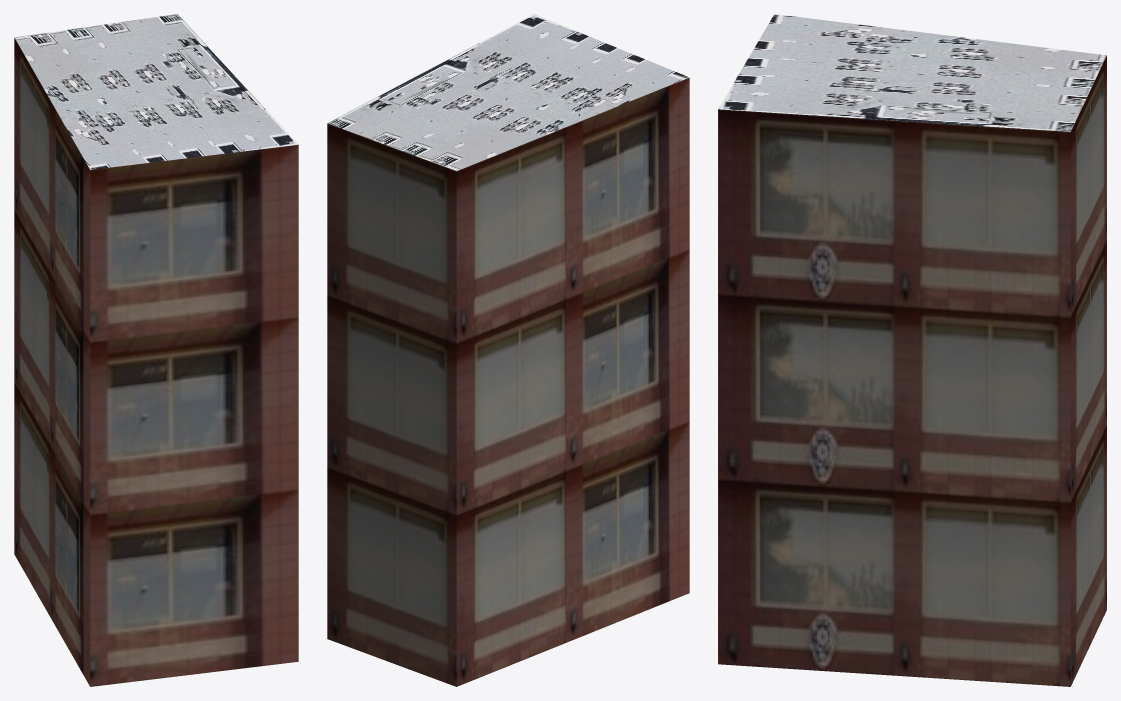
File: ResTex__2655.fbx
3 renders of one model, left to right at view 1: azimuth 30°, elevation 25°; view 2: azimuth 150°, elevation 25°; view 3: azimuth 270°, elevation 25°, orthographic. The views are drawn at different scales.
Visible parts, largest first — view 1: CityEngineMaterial_13_m, CityEngineMaterial_8_m; view 2: CityEngineMaterial_13_m, CityEngineMaterial_8_m; view 3: CityEngineMaterial_13_m, CityEngineMaterial_8_m.
Part boxes in pixels (box(x1,y1,x2,y2)): CityEngineMaterial_13_m: box(14, 38, 298, 686); CityEngineMaterial_8_m: box(14, 14, 297, 169); CityEngineMaterial_13_m: box(327, 77, 689, 686); CityEngineMaterial_8_m: box(327, 14, 689, 171); CityEngineMaterial_13_m: box(718, 55, 1106, 686); CityEngineMaterial_8_m: box(718, 14, 1106, 131).
Size of the model in its own units: 4.11 by 9 by 5.71.
Materials: 2 (2 with a texture image).
